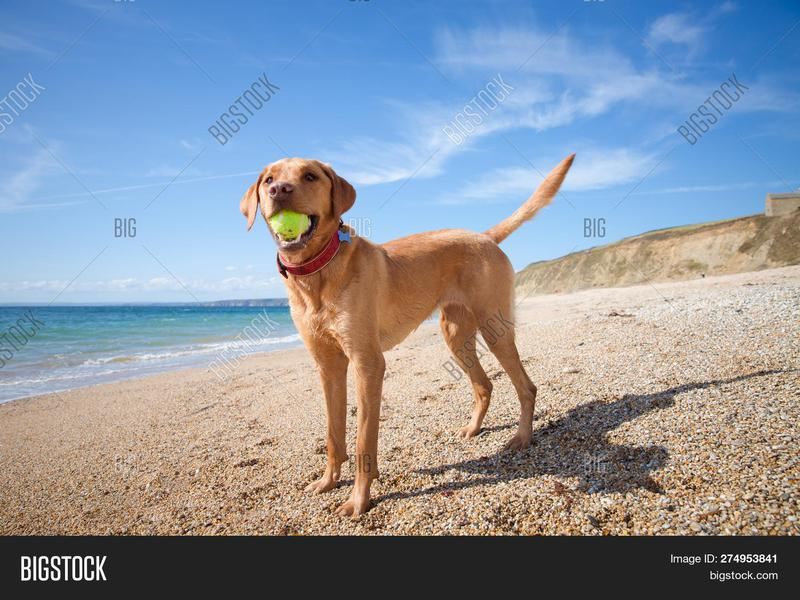dog_stand: (236, 150, 581, 526)
